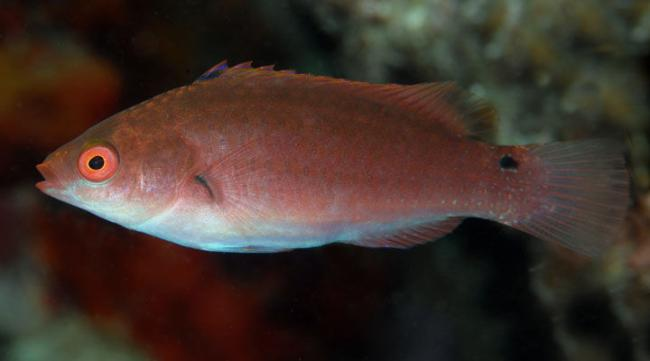fish: (36, 61, 627, 256)
